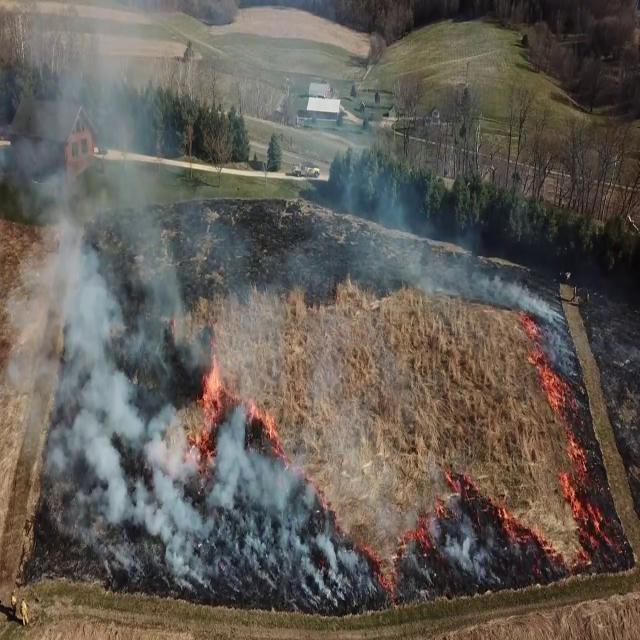Fire: (193, 343, 233, 457)
Smoke: (0, 7, 317, 589)
